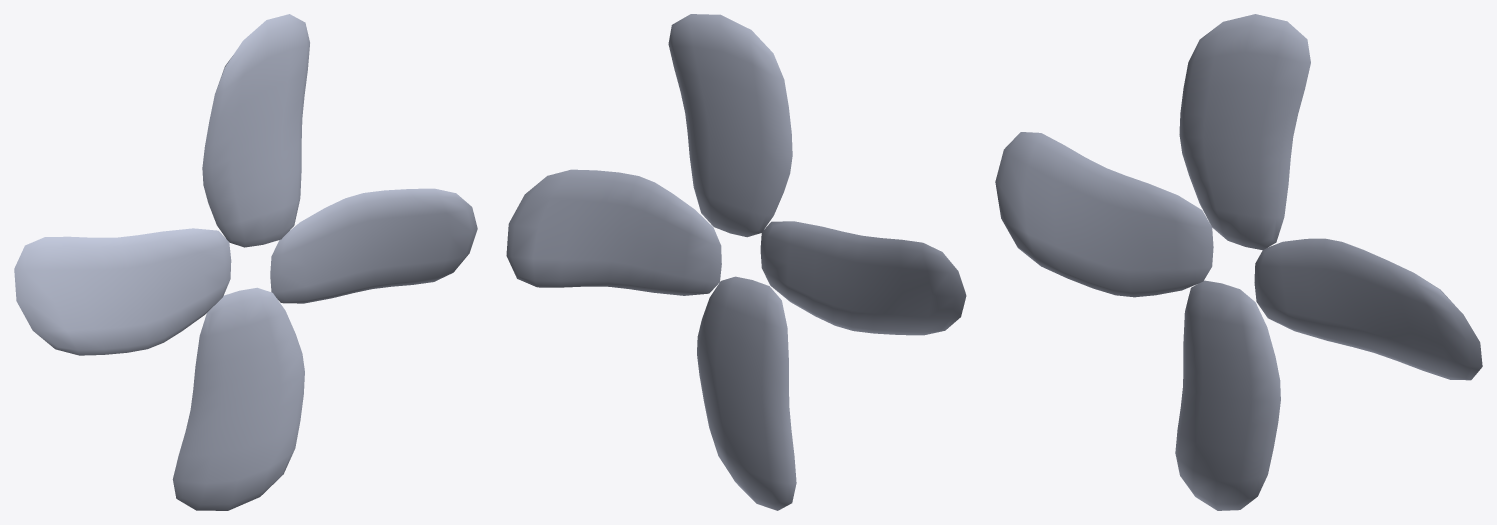
File: Fan2.fbx
3 renders of one model, left to right at view 1: azimuth 30°, elevation 25°; view 2: azimuth 150°, elevation 25°; view 3: azimuth 330°, elevation 25°, orthographic. The views are drawn at different scales.
Parts seen in each view (by area): view 1: Plane.003, Plane.002, Plane, Plane.001; view 2: Plane.001, Plane, Plane.002, Plane.003; view 3: Plane.003, Plane, Plane.001, Plane.002.
Part boxes in pixels (box(x1,y1,x2,y2)): Plane.003: box(14, 228, 231, 355); Plane.002: box(172, 287, 304, 510); Plane: box(202, 14, 309, 247); Plane.001: box(270, 188, 477, 303); Plane.001: box(506, 169, 721, 295); Plane: box(668, 14, 792, 237); Plane.002: box(697, 276, 796, 510); Plane.003: box(760, 221, 966, 335); Plane.003: box(995, 132, 1213, 297); Plane: box(1179, 14, 1310, 250); Plane.001: box(1254, 238, 1482, 380); Plane.002: box(1175, 280, 1280, 510).
Bounding box in the file's own units: 657 × 657 × 51.32.
